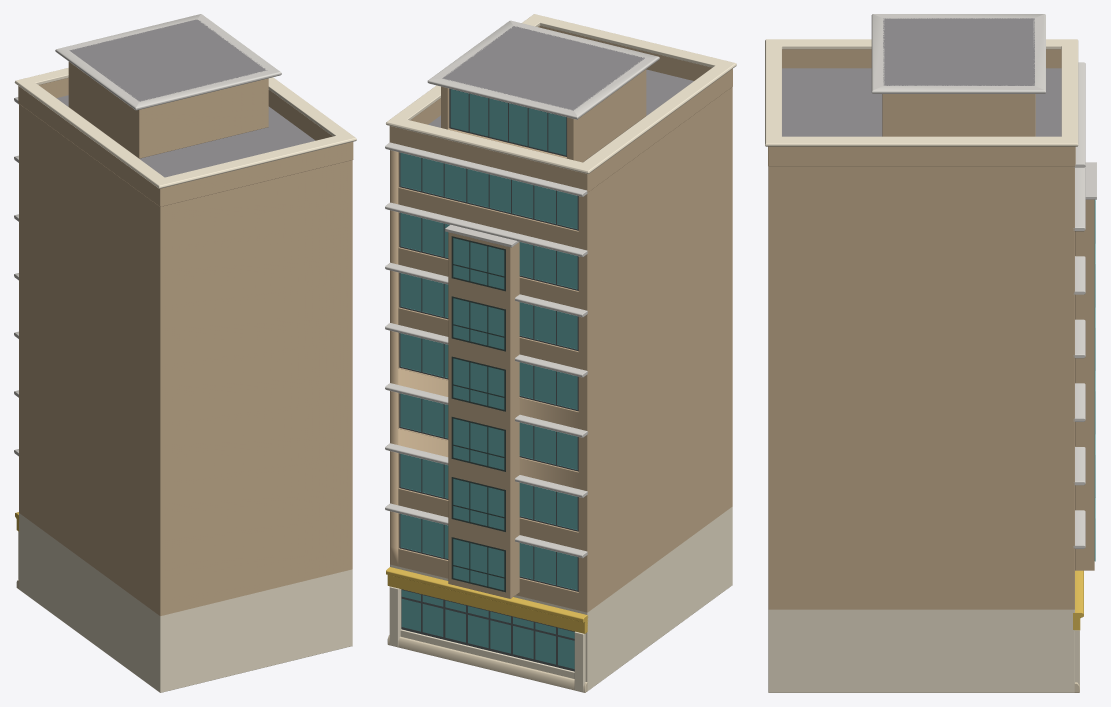
The model's file is far_stucco_tan_7.glb.
3 views of the same model, side by side, from view 1: azimuth 30°, elevation 25°; view 2: azimuth 150°, elevation 25°; view 3: azimuth 270°, elevation 25° (orthographic). The views are drawn at different scales.
Parts seen in each view (by area): view 1: shell, penthouse, trim; view 2: shell, trim, props, penthouse, frames, penthouse frames; view 3: shell, trim, penthouse, props.
Boxes of the visible parts, bbox=[...] form: shell: bbox=[19, 95, 352, 692]; penthouse: bbox=[68, 19, 268, 158]; trim: bbox=[14, 14, 356, 589]; shell: bbox=[390, 69, 732, 690]; trim: bbox=[385, 14, 736, 692]; props: bbox=[445, 224, 519, 598]; penthouse: bbox=[441, 26, 646, 162]; frames: bbox=[399, 152, 578, 671]; penthouse frames: bbox=[449, 88, 566, 156]; shell: bbox=[768, 68, 1074, 692]; trim: bbox=[765, 14, 1085, 692]; penthouse: bbox=[882, 18, 1035, 136]; props: bbox=[1075, 162, 1096, 570].
Size of the model in its own units: 11.31 by 29.72 by 15.15.
